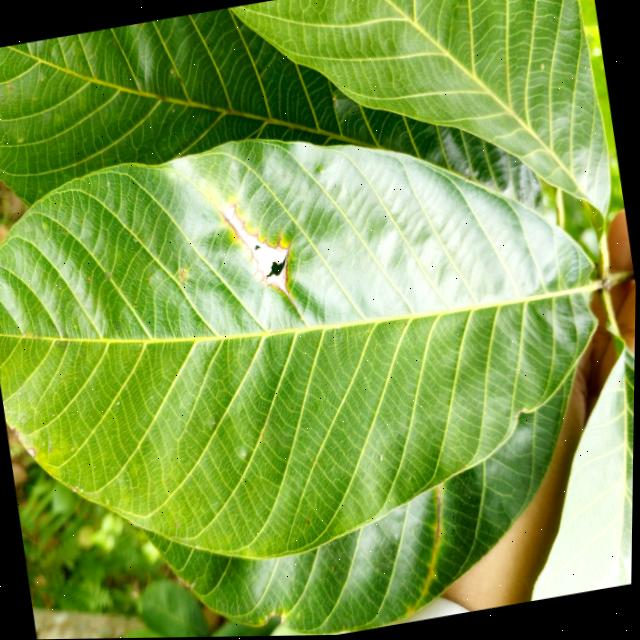Colletotrichum: (137, 22, 144, 27), (24, 330, 29, 335)
Corynespora: (217, 195, 304, 315)
